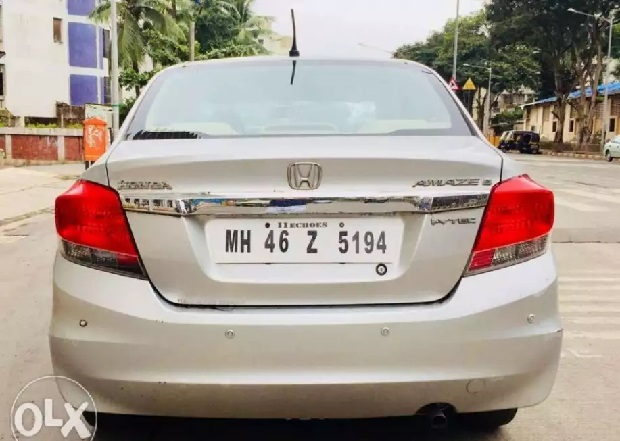licenseplate: (205, 213, 400, 268)
